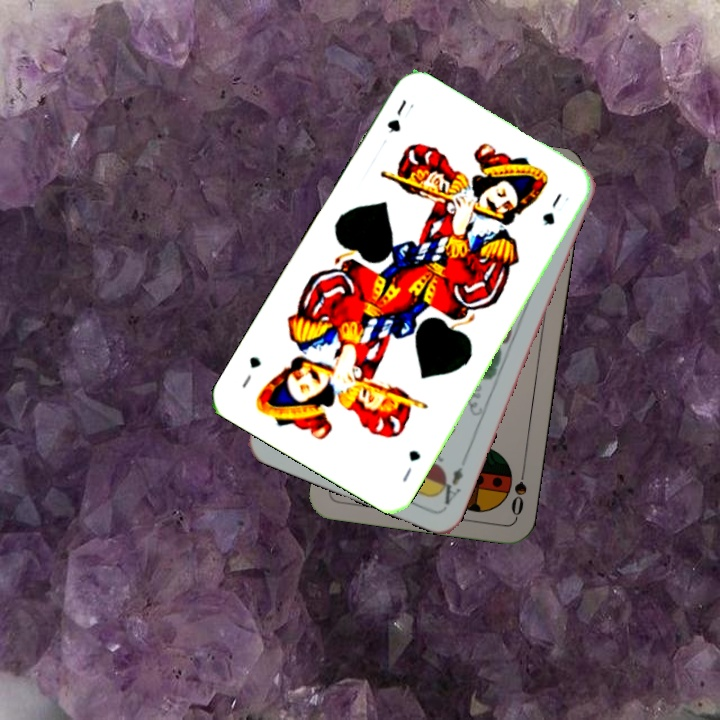EA: (433, 463, 466, 508)
GU: (383, 95, 417, 136), (398, 446, 424, 485)
SO: (507, 460, 530, 519)
